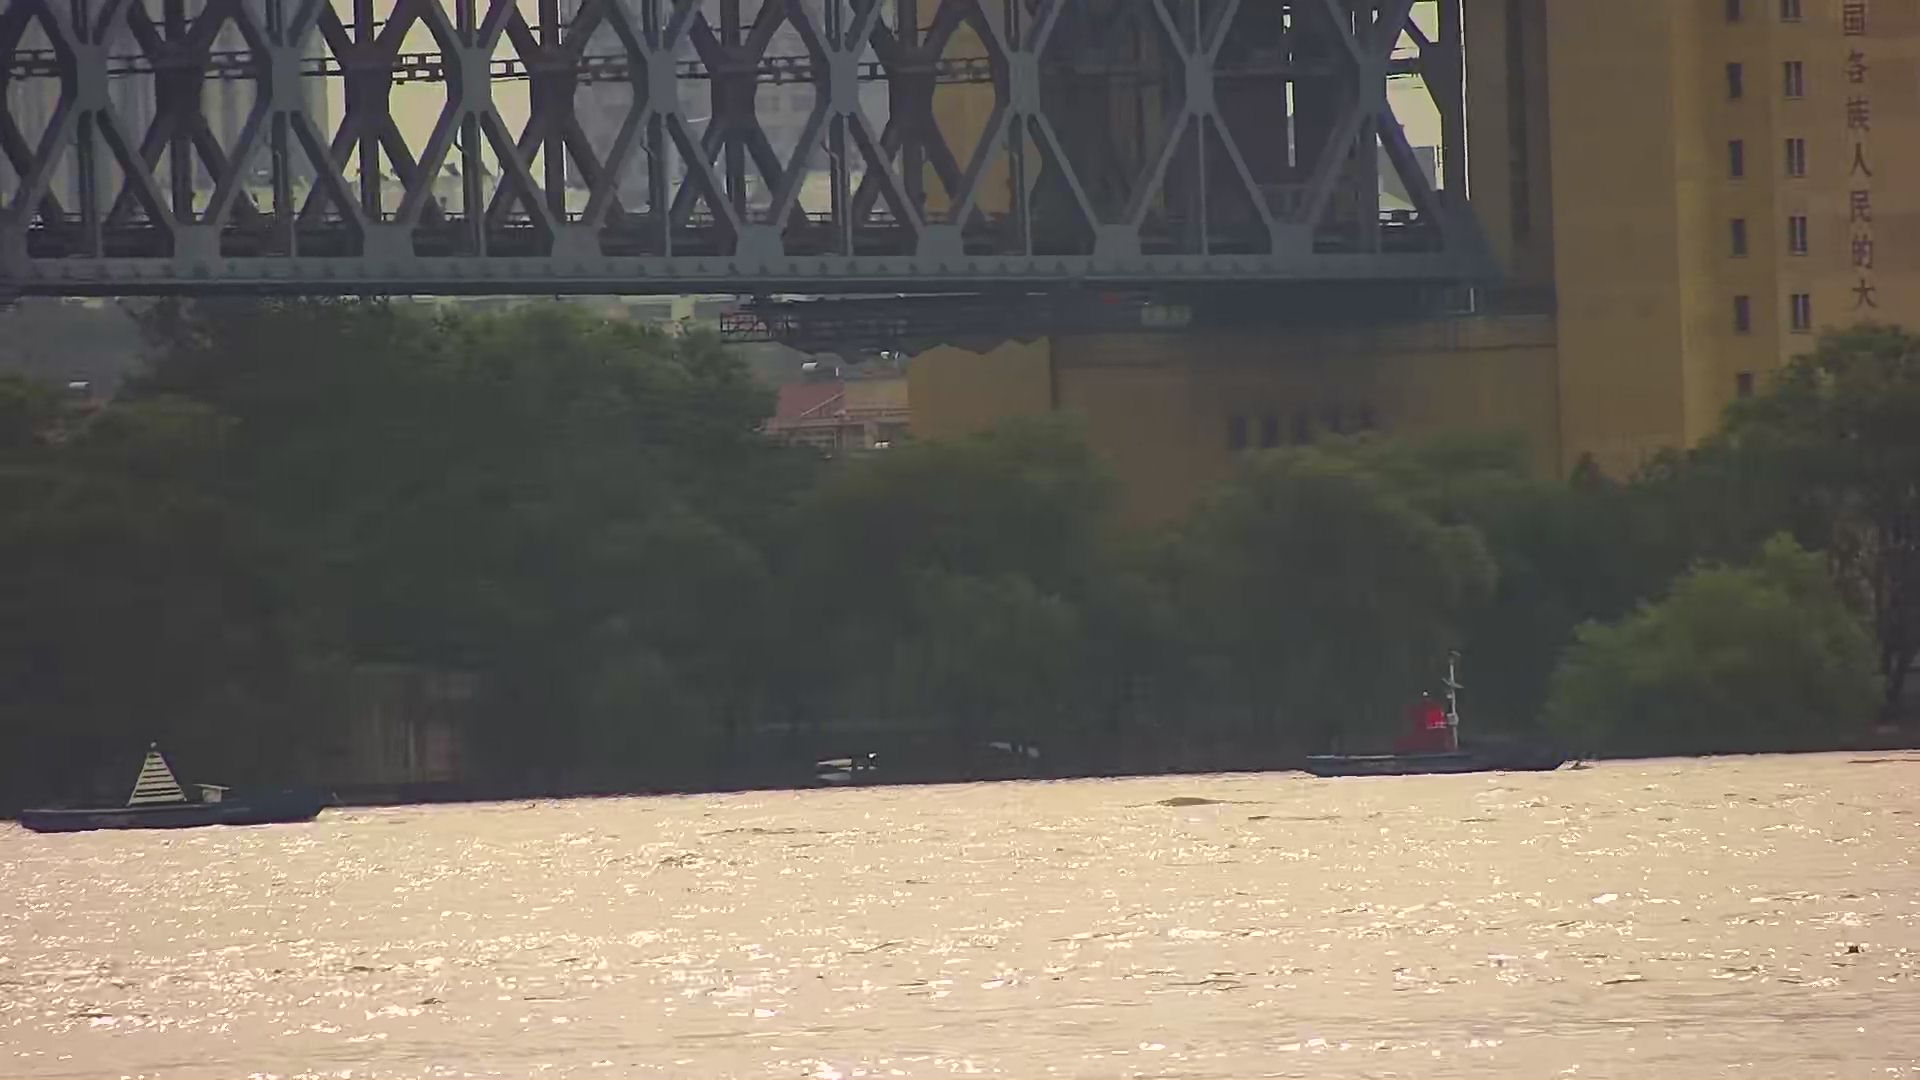boat: (1, 719, 357, 844), (1269, 637, 1581, 778)
bridge: (1, 1, 1602, 405)
